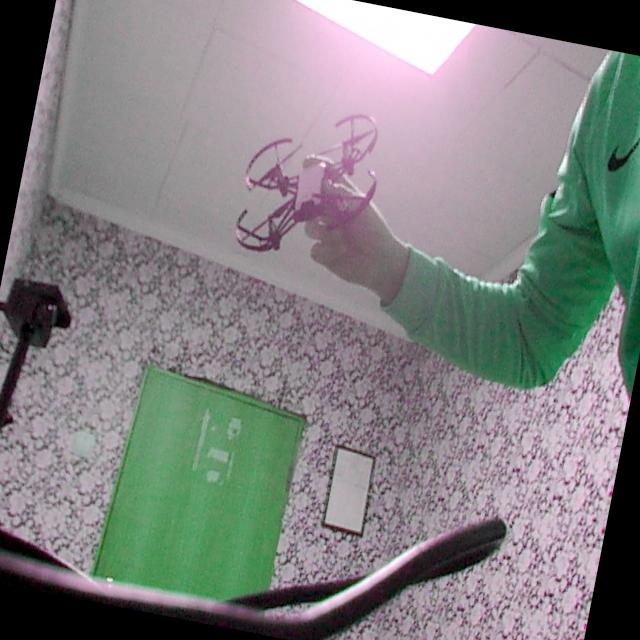drone: (218, 80, 412, 284)
